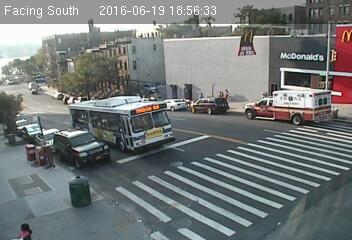neg: (257, 73, 289, 115), (197, 142, 223, 177), (136, 112, 160, 144), (276, 48, 299, 78), (47, 99, 70, 129), (16, 31, 37, 59), (240, 38, 260, 65), (119, 65, 139, 91), (296, 104, 315, 130), (172, 35, 182, 49)
pos: (16, 211, 35, 237), (215, 87, 225, 100), (222, 88, 231, 100)
